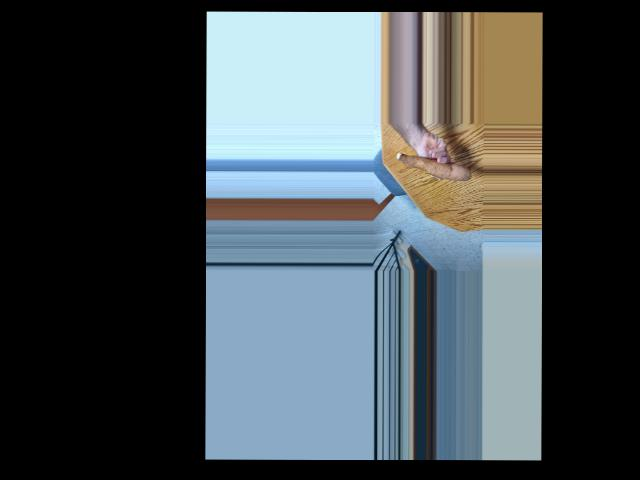sweet_potato: (398, 151, 467, 185)
